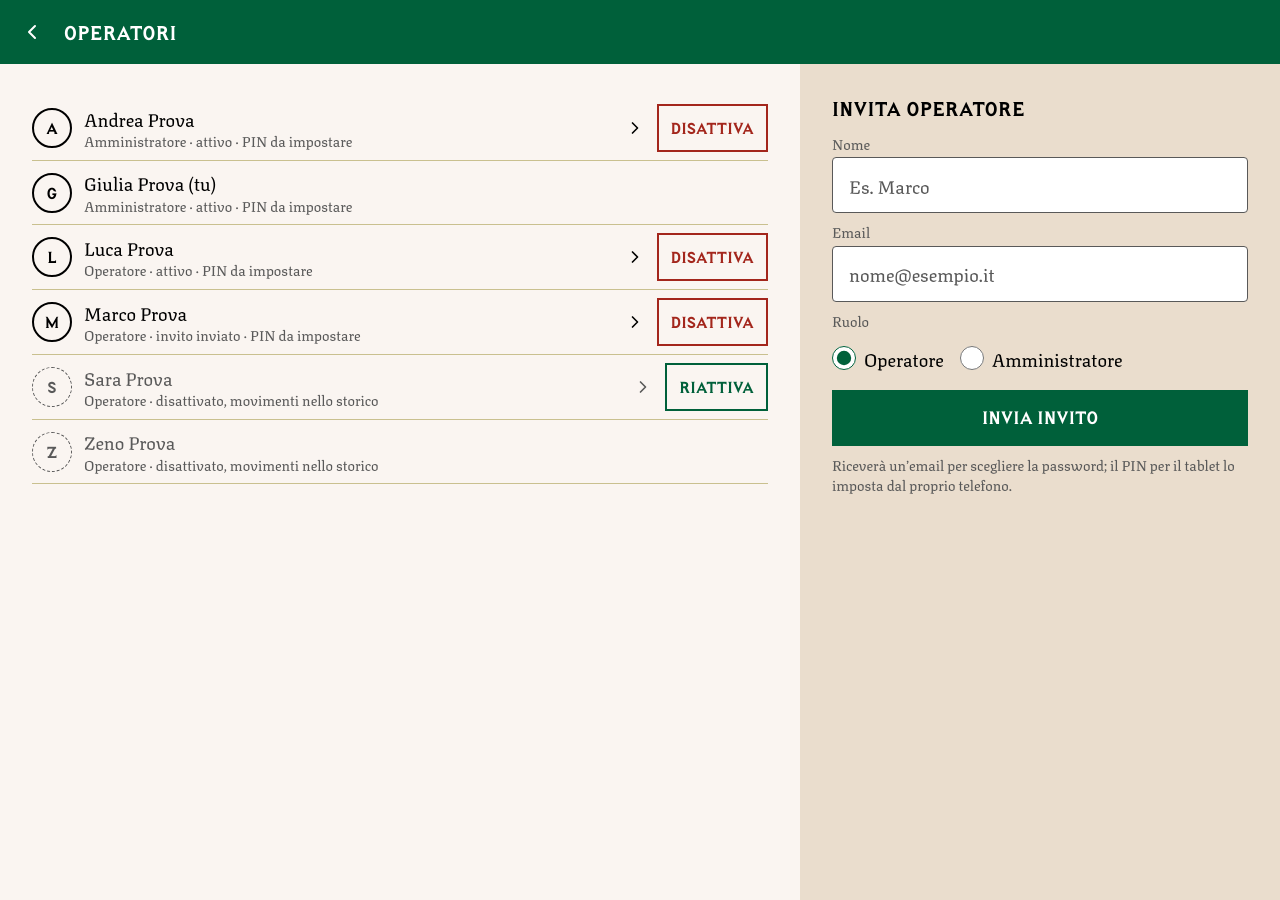
Test case: OperatorDialog: the role › promotes after the second confirmation: outcome, list reloaded, focus back on the row
Click the button "Luca Prova Operatore · attivo · PIN da impostare": (129, 247) [84,233,644,281]
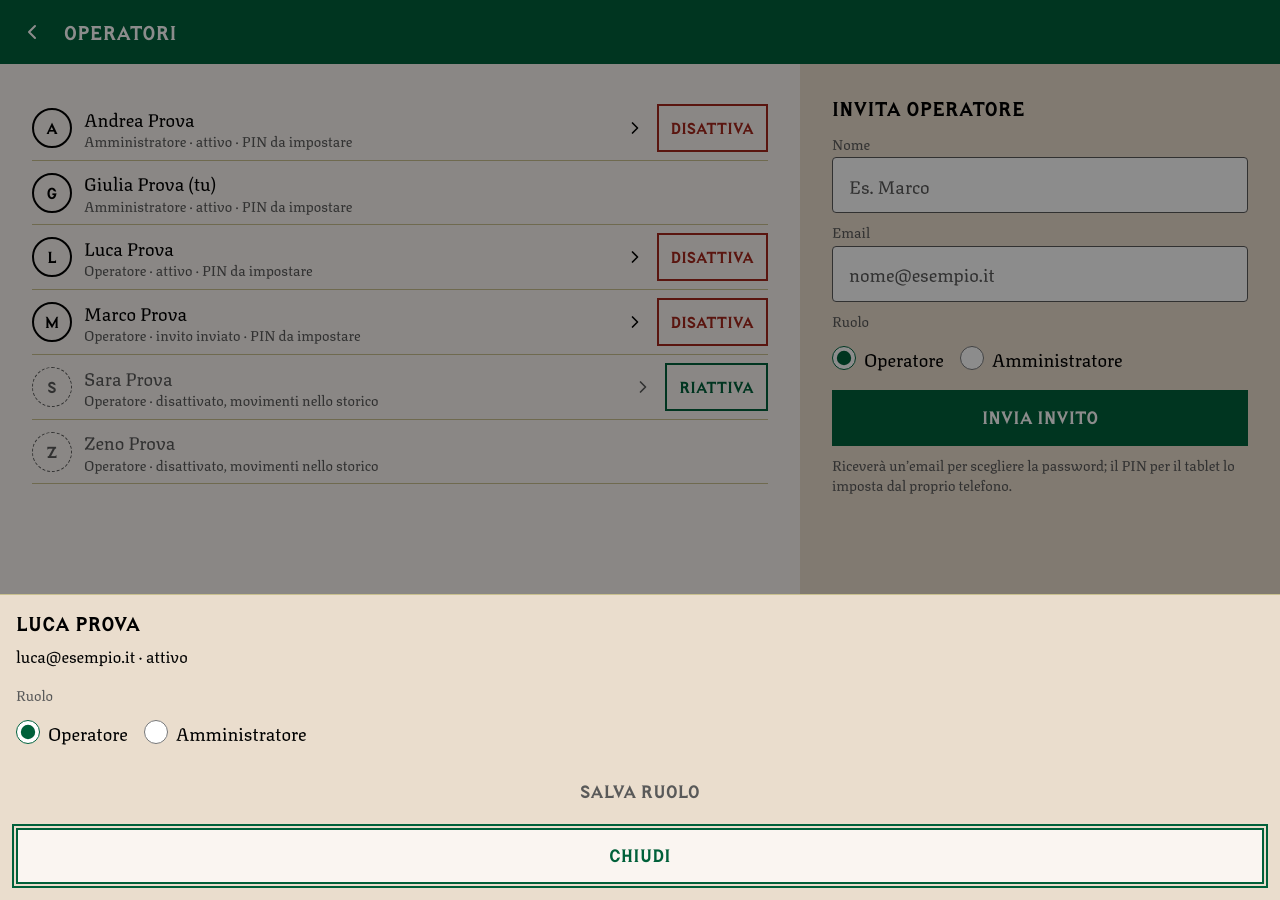
Click the radio button labelled "Amministratore": (156, 732) [144,720,168,744]
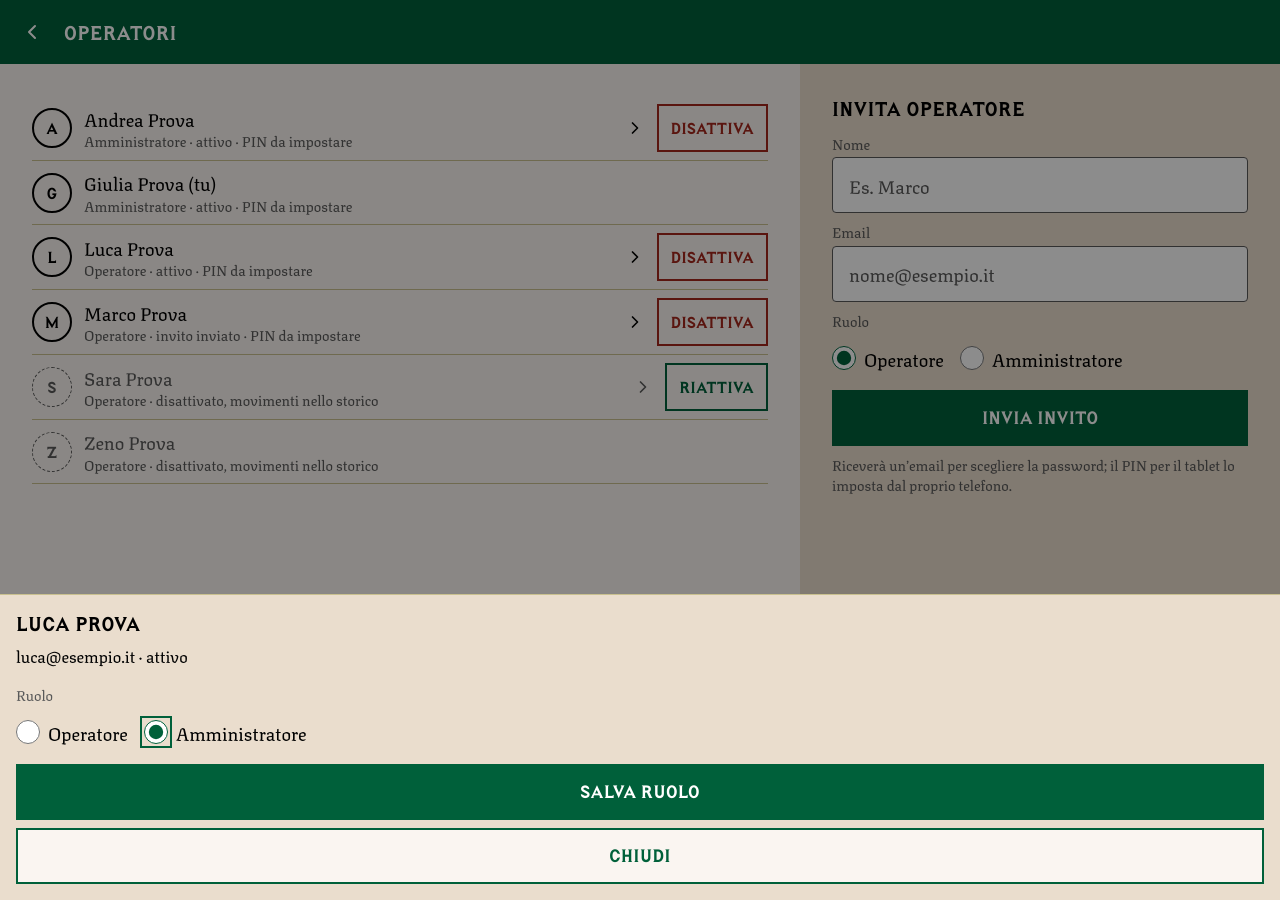
Expected: the button "Salva ruolo" is enabled, [16,764,1264,820]
Click the radio button labelled "Operatore": (28, 732) [16,720,40,744]
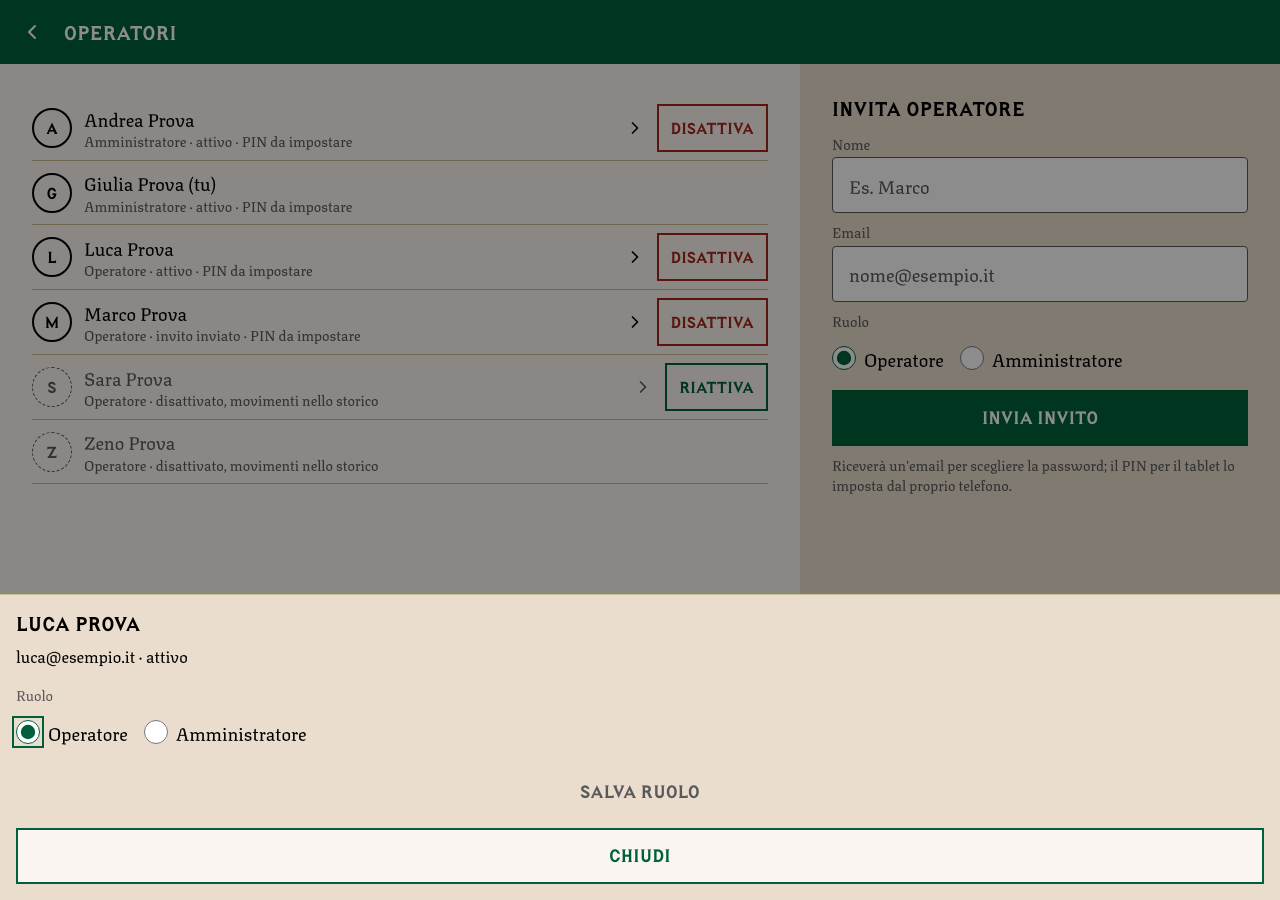
Expected: the button "Salva ruolo" is disabled, [16,764,1264,820]
Click the radio button labelled "Amministratore": (156, 732) [144,720,168,744]
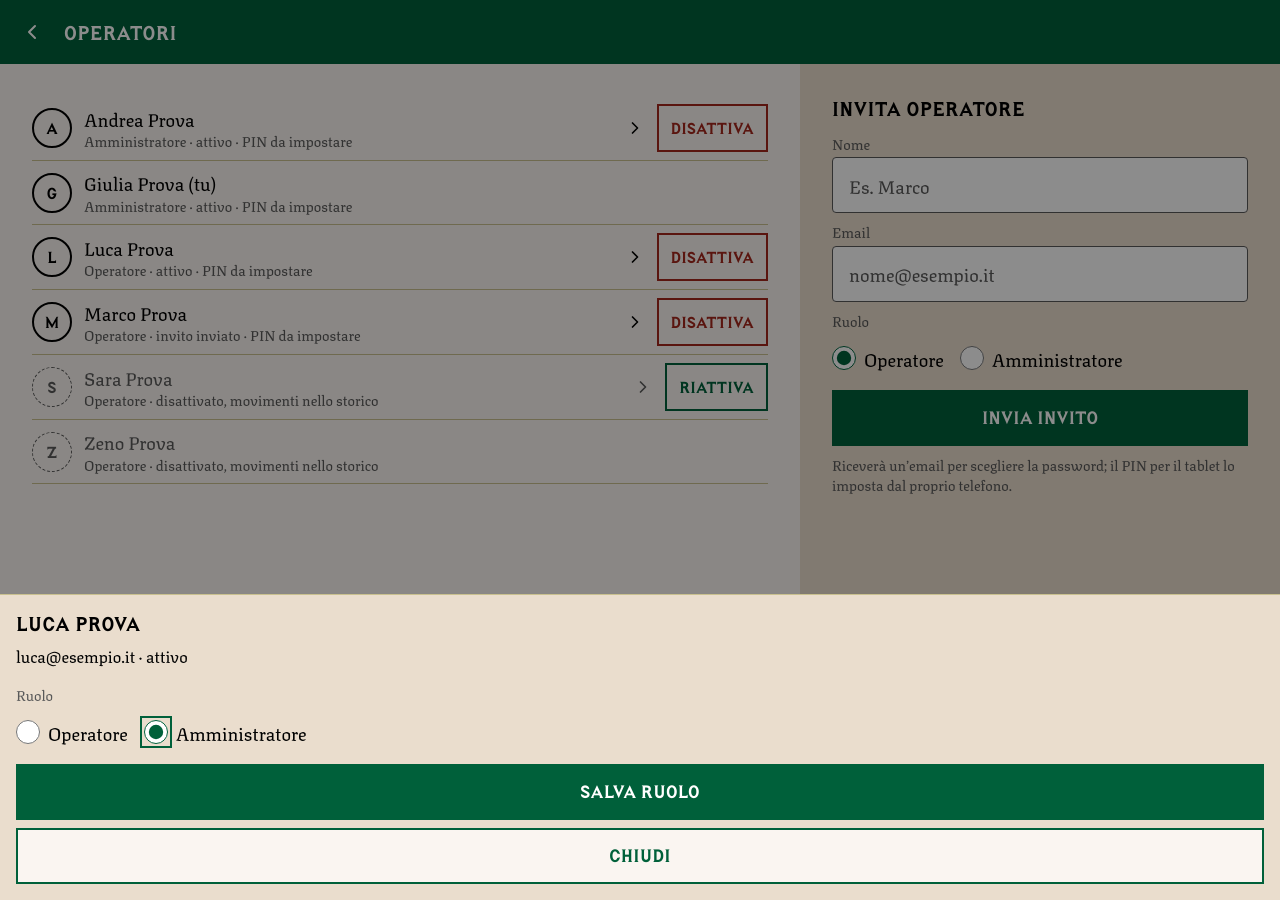
Click the button "Salva ruolo": (640, 792) [16,764,1264,820]
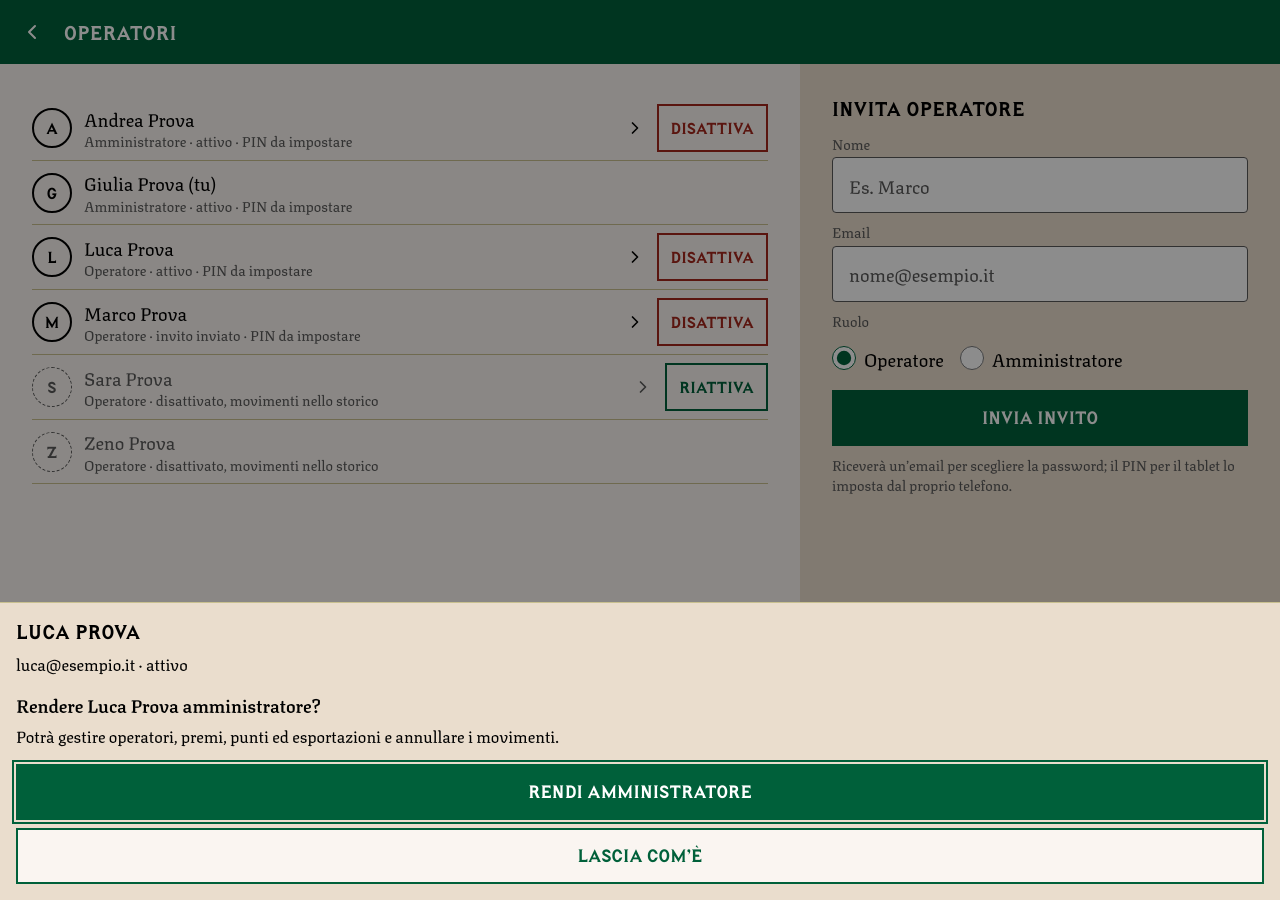
Expected: the text "Rendere Luca Prova amministratore?" is shown, [16,690,321,718]
Expected: the text "Potrà gestire operatori, premi, punti ed esportazioni e annullare i movimenti." is shown, [16,723,559,748]
Click the button "Rendi amministratore": (640, 792) [16,764,1264,820]
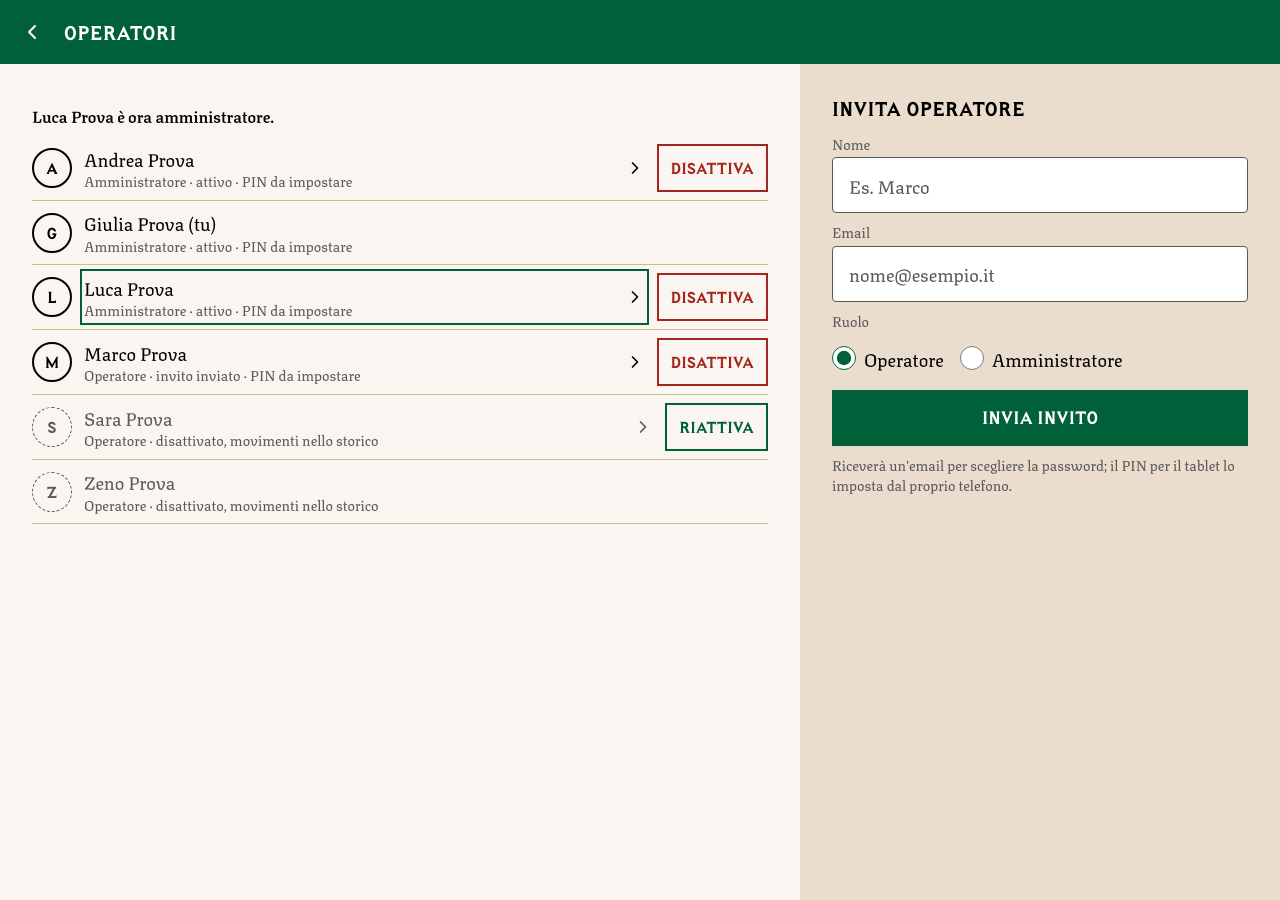
Expected: the text "Luca Prova è ora amministratore." is shown, [32,103,274,128]
Expected: the dialog is gone
Expected: the list item that starts with "Luca Prova" shows "Amministratore · attivo", [84,273,644,321]
